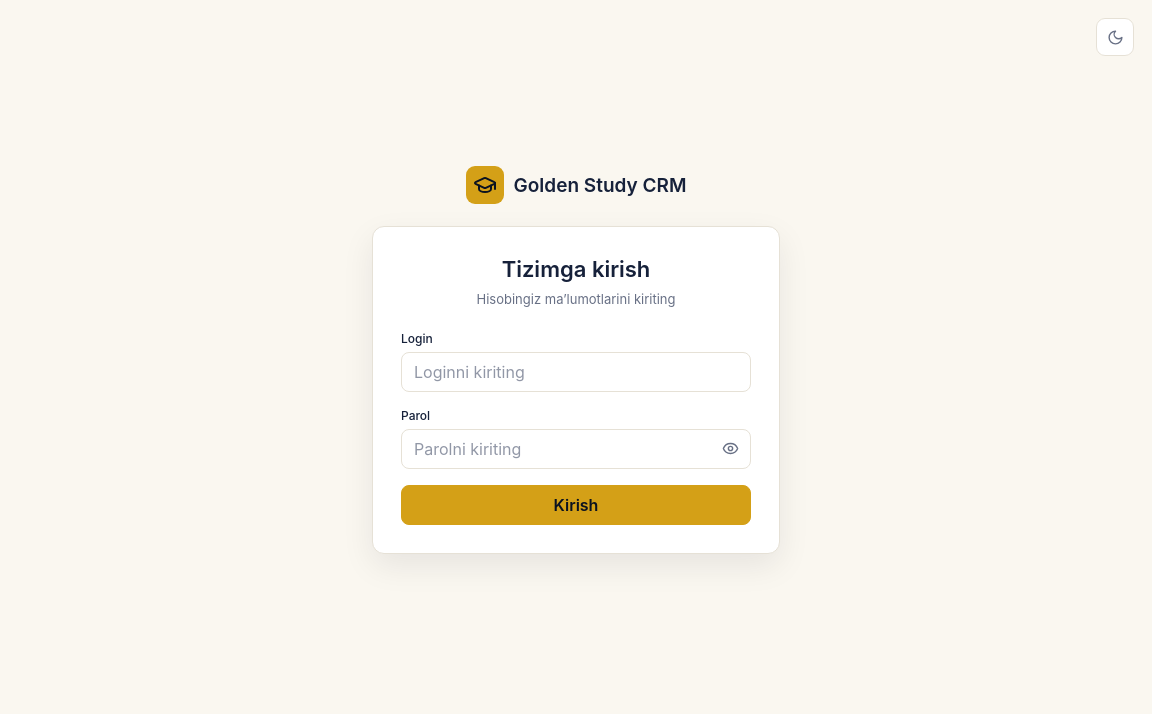
Scenario: mock-авторизация › открывает курс кликом и с клавиатуры
In the field labelled "Login": {"x": 576, "y": 372} [401, 352, 751, 392], type "admin"
In the password field labelled "Parol": {"x": 576, "y": 449} [401, 429, 751, 469], type "admin123"
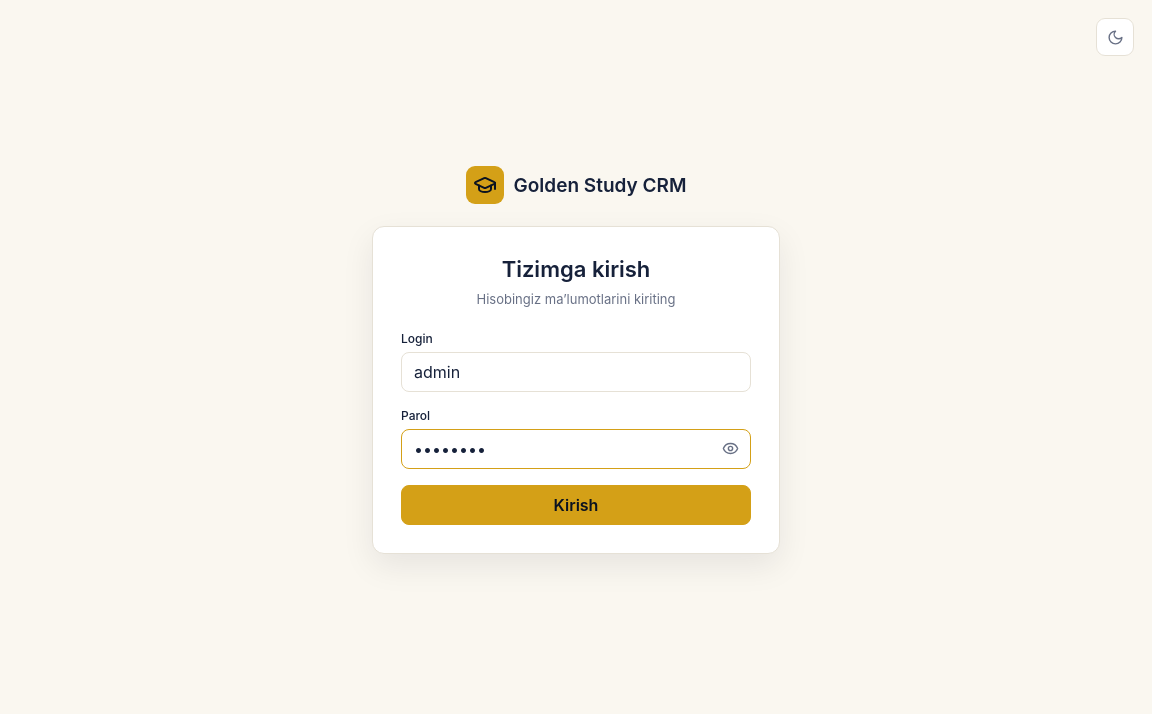
Click the button "Kirish": {"x": 576, "y": 505} [401, 485, 751, 525]
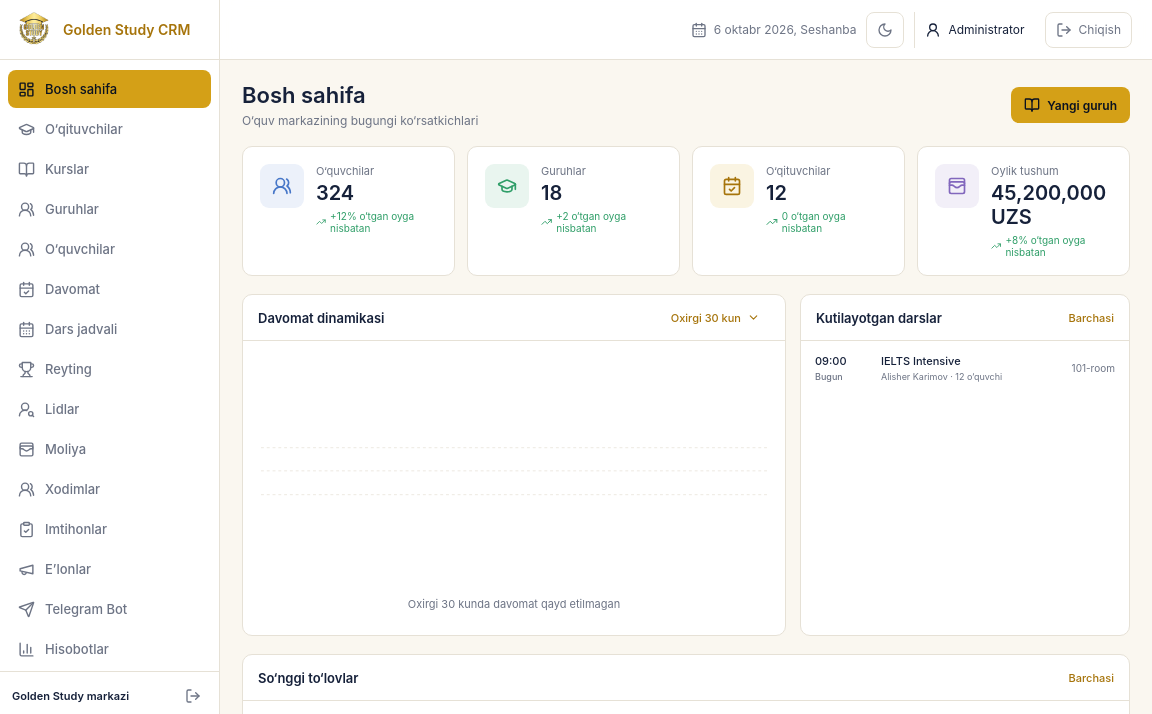
Click the link "Kurslar": {"x": 54, "y": 169} [18, 160, 89, 178]
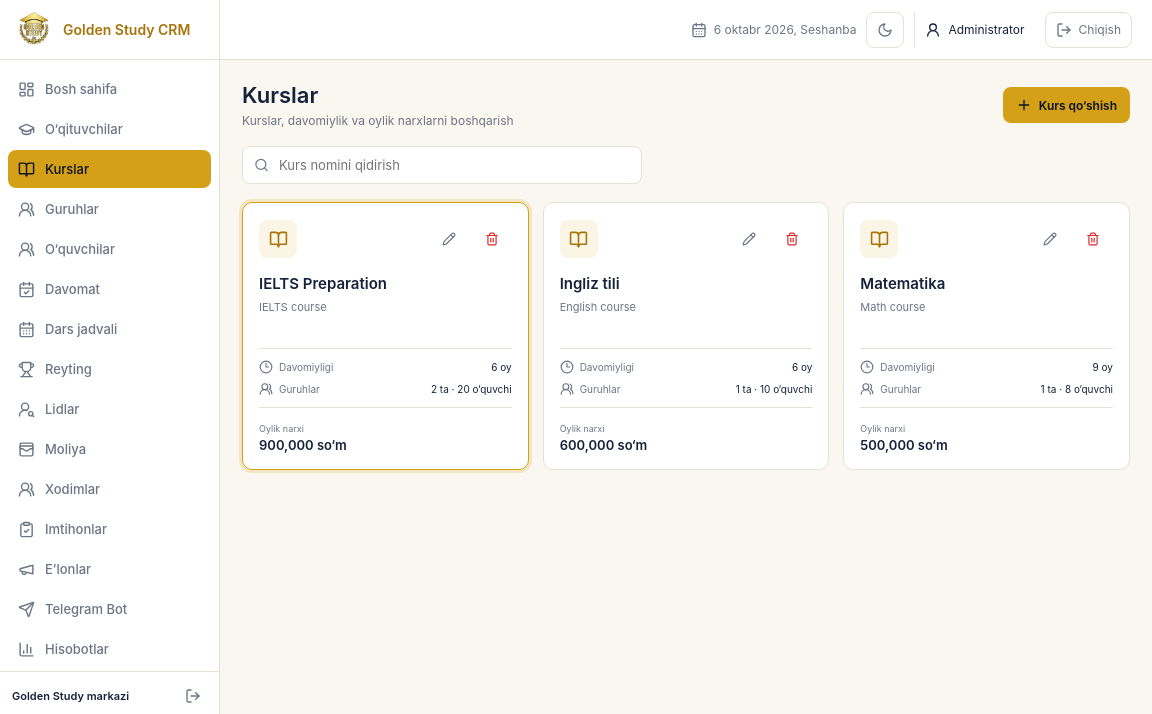
Press Enter
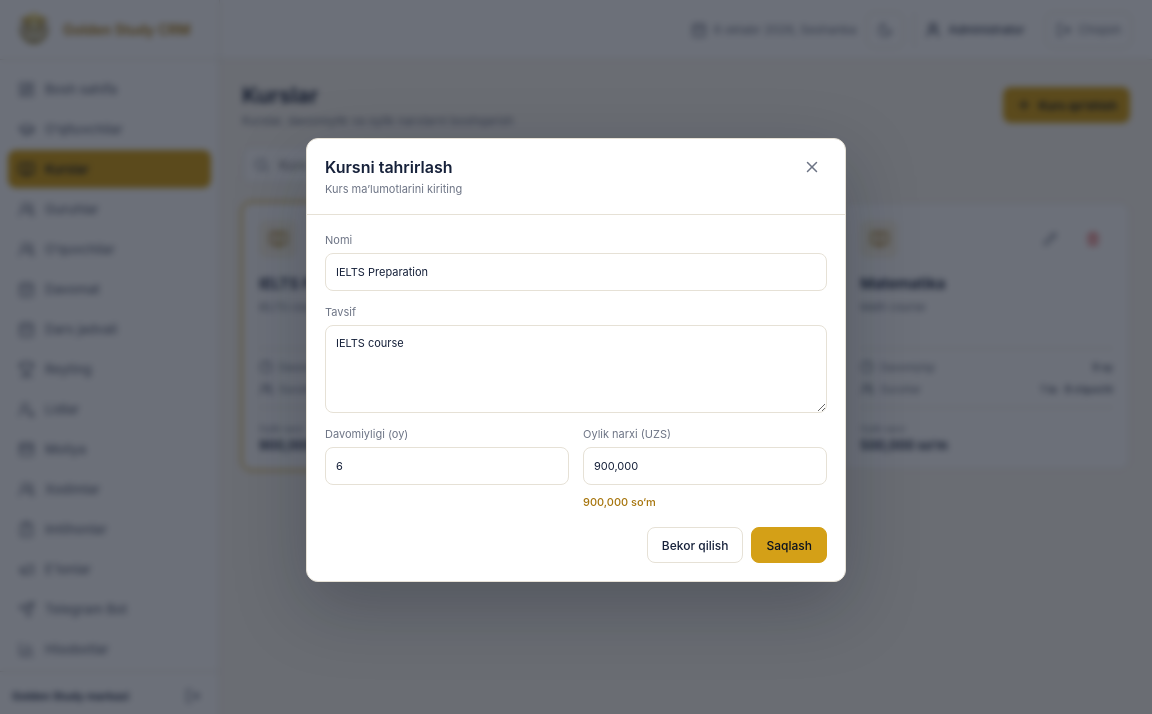
Expected: the heading "Kursni tahrirlash" is shown, [325, 157, 462, 177]
Click the button named "Yopish": {"x": 812, "y": 169} [797, 157, 827, 181]
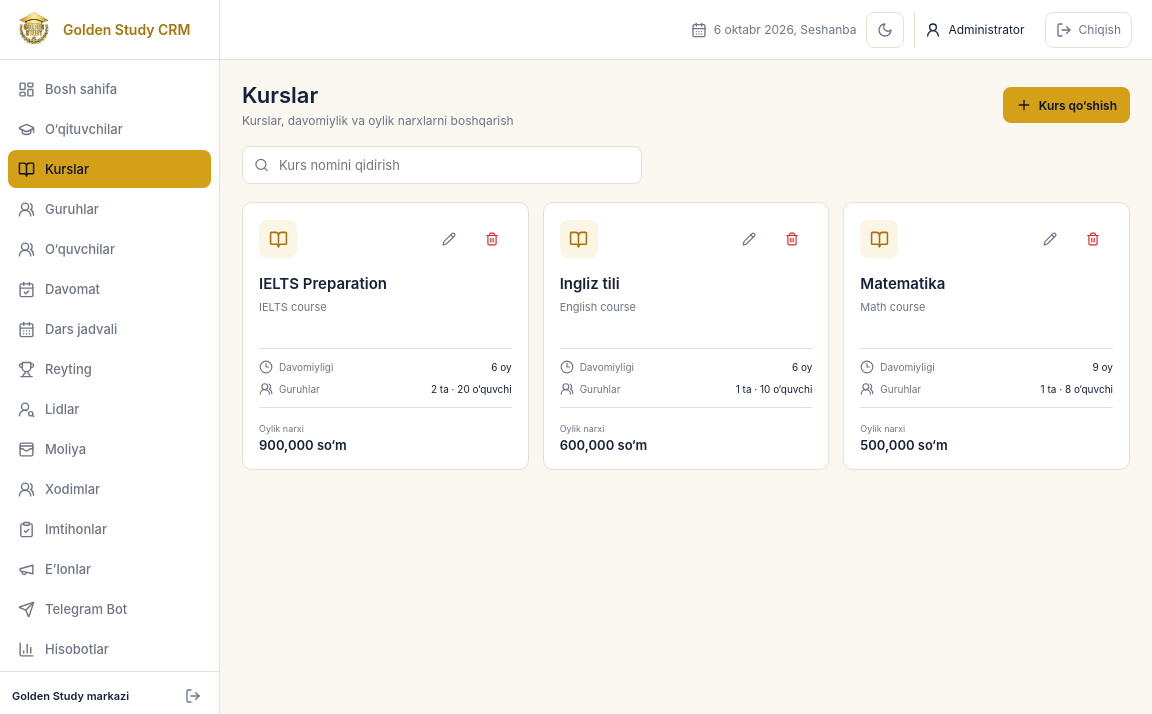
Click the button named "IELTS Preparation kursini tahrirlash": {"x": 385, "y": 336} [243, 203, 528, 469]
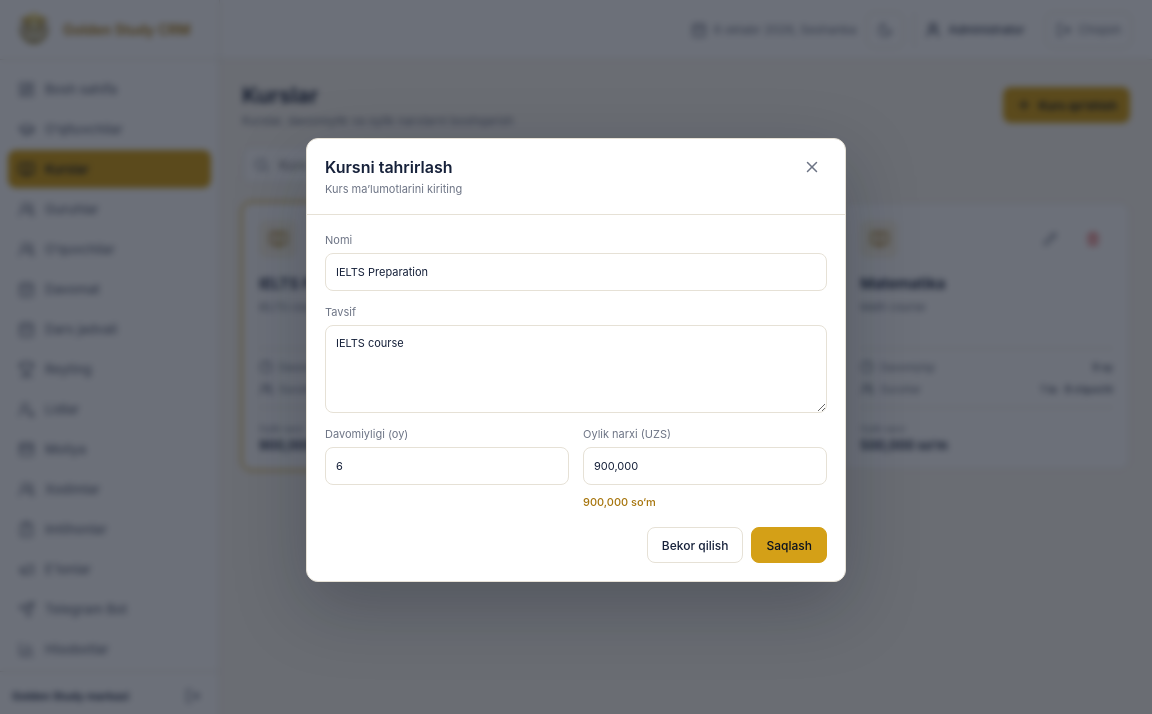
Expected: the heading "Kursni tahrirlash" is shown, [325, 157, 462, 177]
